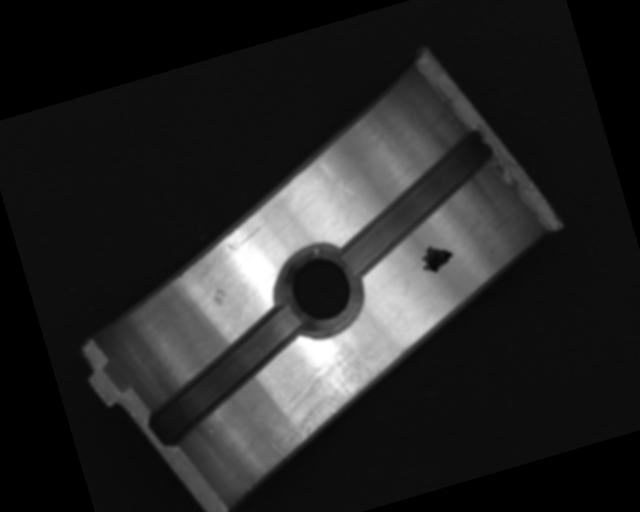blot: (415, 239, 458, 278)
bruise: (209, 284, 231, 308)
gap: (320, 128, 514, 278), (130, 306, 321, 449)
hole: (269, 238, 369, 346)
nick: (319, 152, 365, 212)
scratch: (253, 329, 415, 460)
